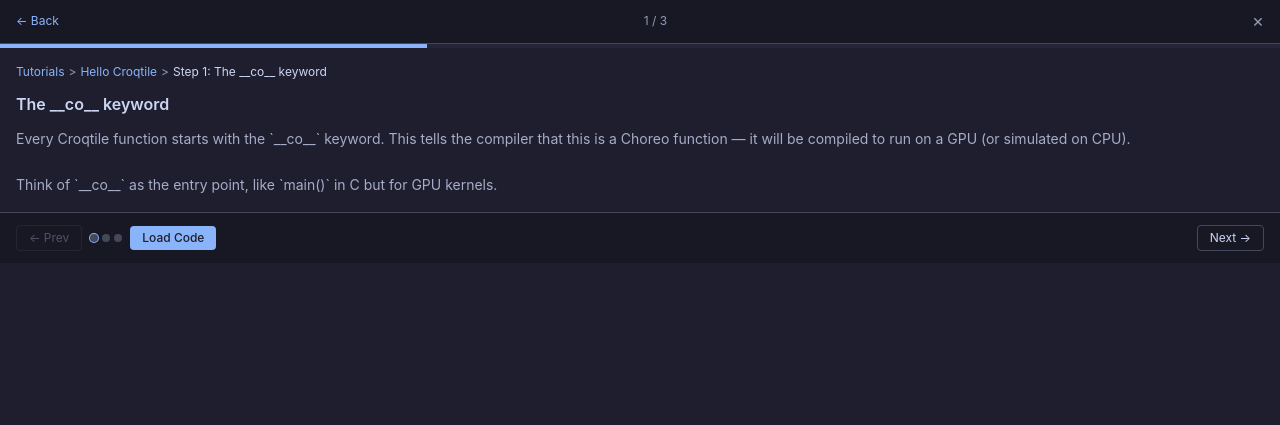
Test: TutorialPanel › renders breadcrumb on tutorial step view
Click the button "Next →".
click(1230, 238)  # box [1197,225,1264,251]
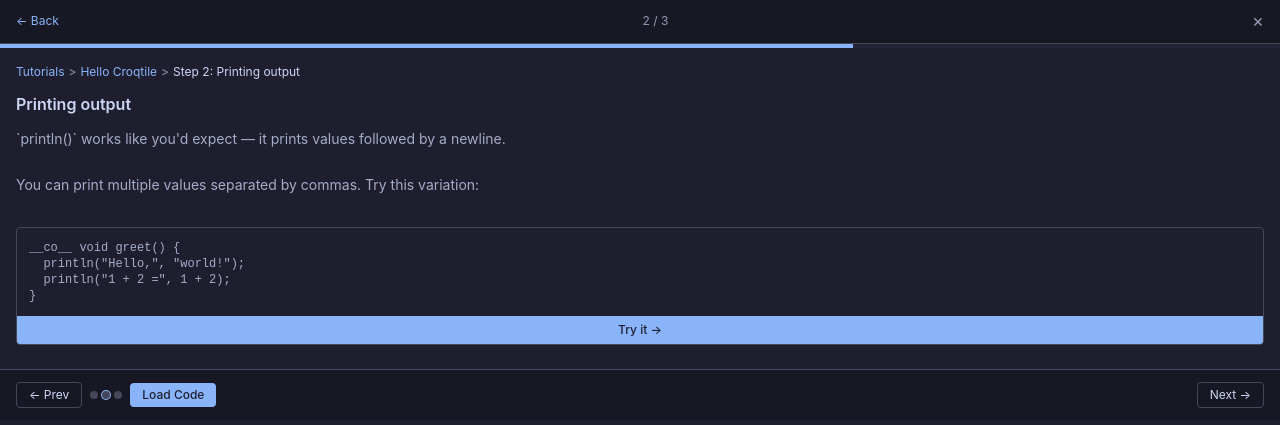
Expected: the navigation bar with test id "tutorial-breadcrumb" shows "Tutorials", [16,64,64,80]
Expected: the navigation bar with test id "tutorial-breadcrumb" shows "Step 2: Printing output", [16,64,300,80]
